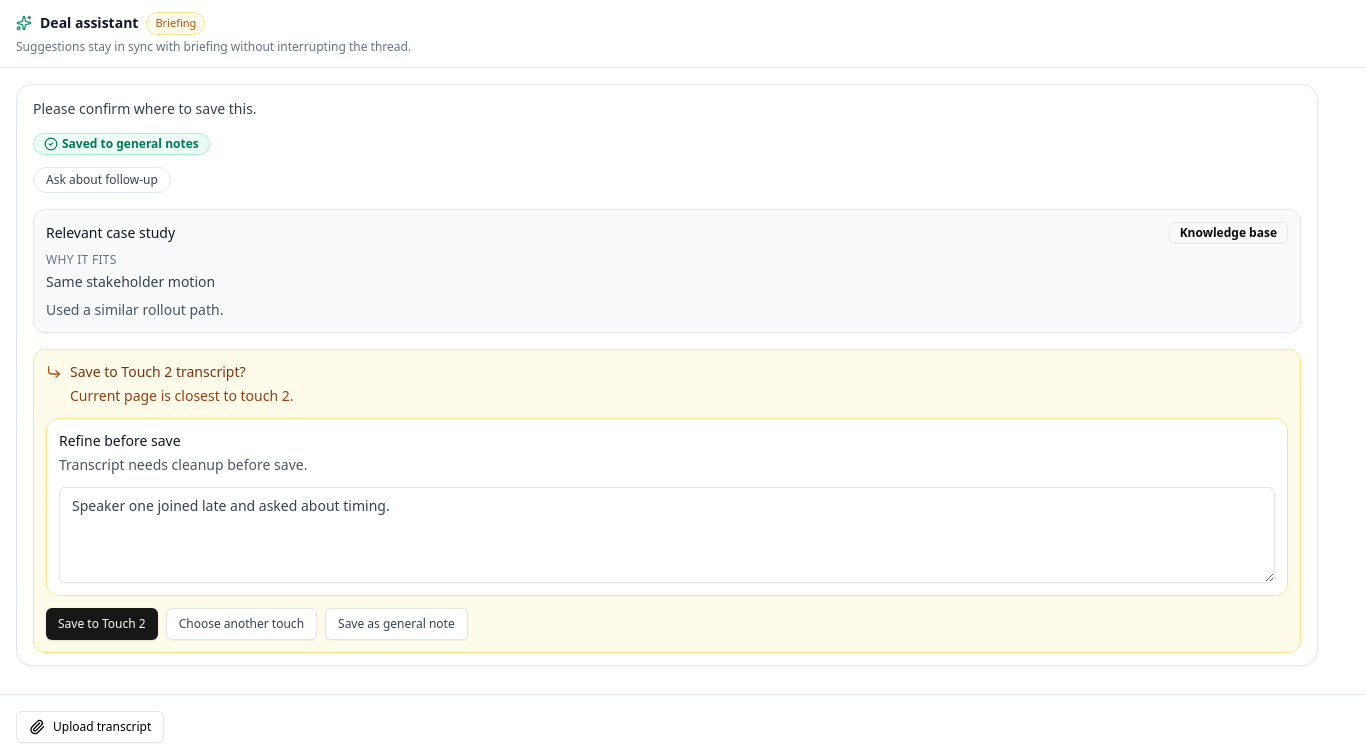
Test case: DealChatThread › keeps confirmation actions and refine-before-save affordances inline without losing the thread
Expected: the text box showing "Speaker one joined late and asked about timing." is shown, [59, 486, 1275, 582]
Click the button "Save to Touch 2": coordinates (102, 624) [46, 608, 158, 640]
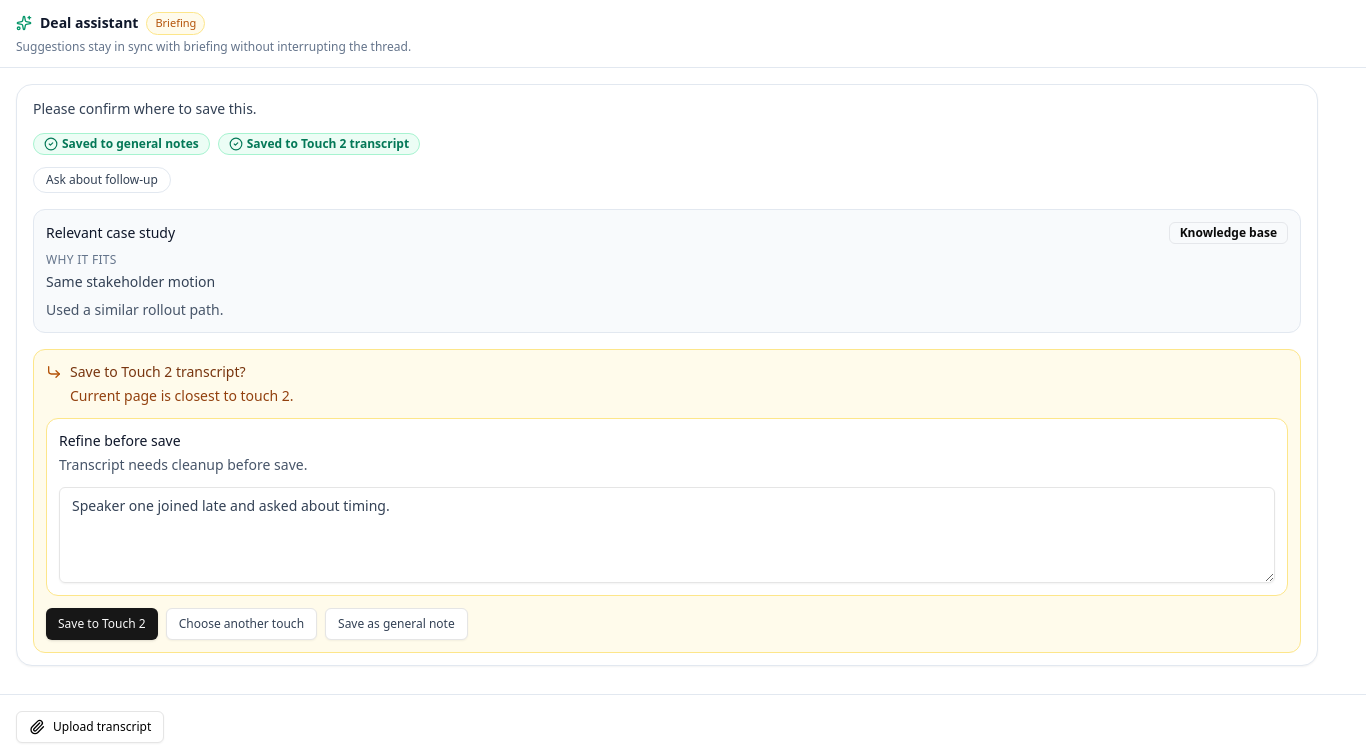
Expected: the text "Please confirm where to save this." is shown, [33, 98, 257, 118]
Expected: the text "Saved to Touch 2 transcript" is shown, [218, 132, 420, 154]
